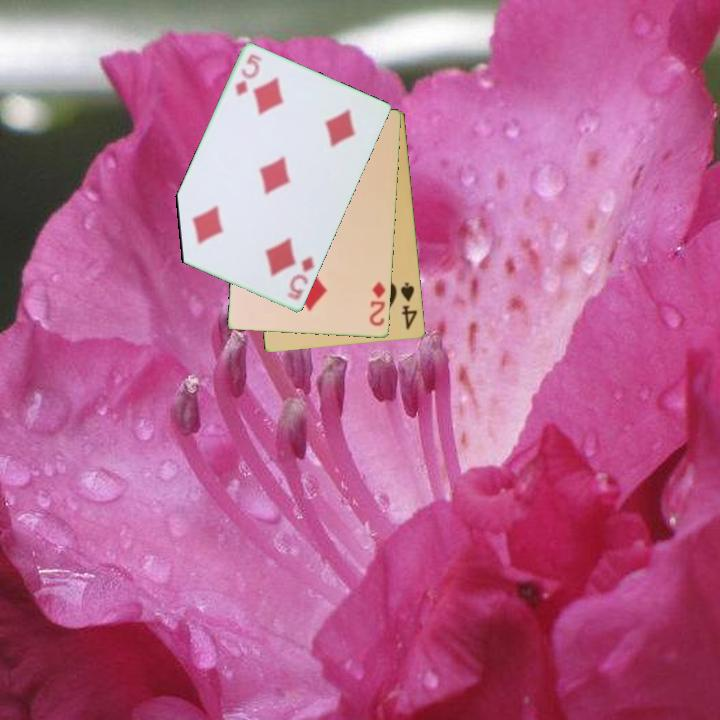2d: (366, 278, 389, 329)
4s: (398, 279, 420, 333)
5d: (284, 253, 318, 304), (232, 51, 265, 100)
